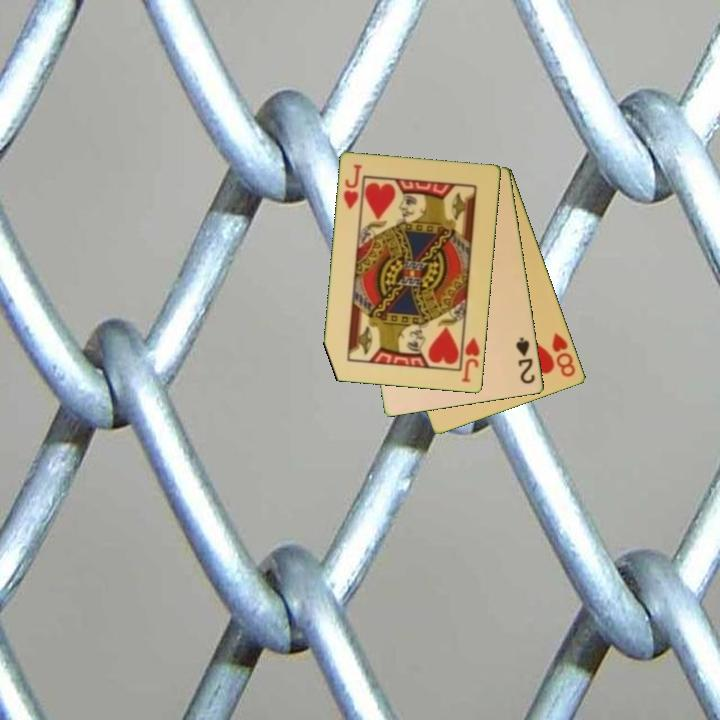2s: (513, 334, 538, 387)
8h: (549, 329, 579, 380)
Jh: (340, 161, 365, 212), (459, 334, 483, 386)
